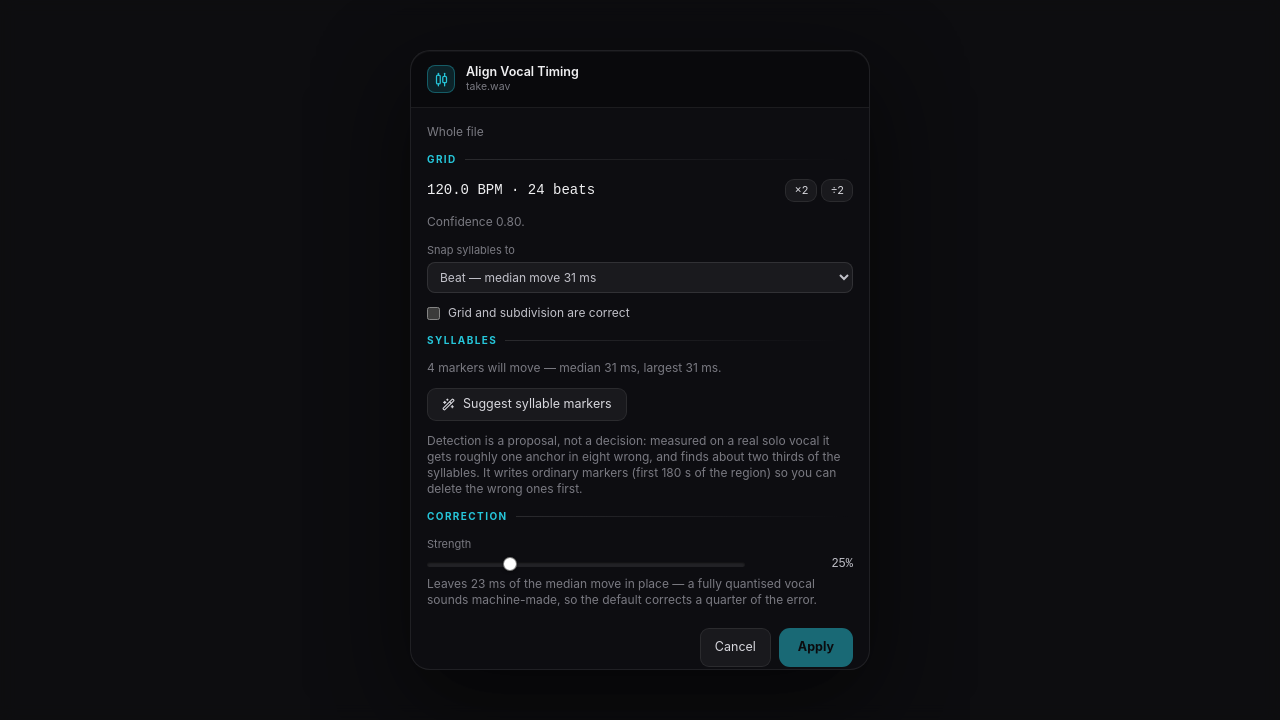
Scenario: AlignTimingDialog — RULING 1, confirm before warp › un-confirms when the subdivision changes, so the tick always refers to what is on screen
Click the checkbox with test id "align-grid-confirmed" at point(434, 313), box [427,307,440,320]
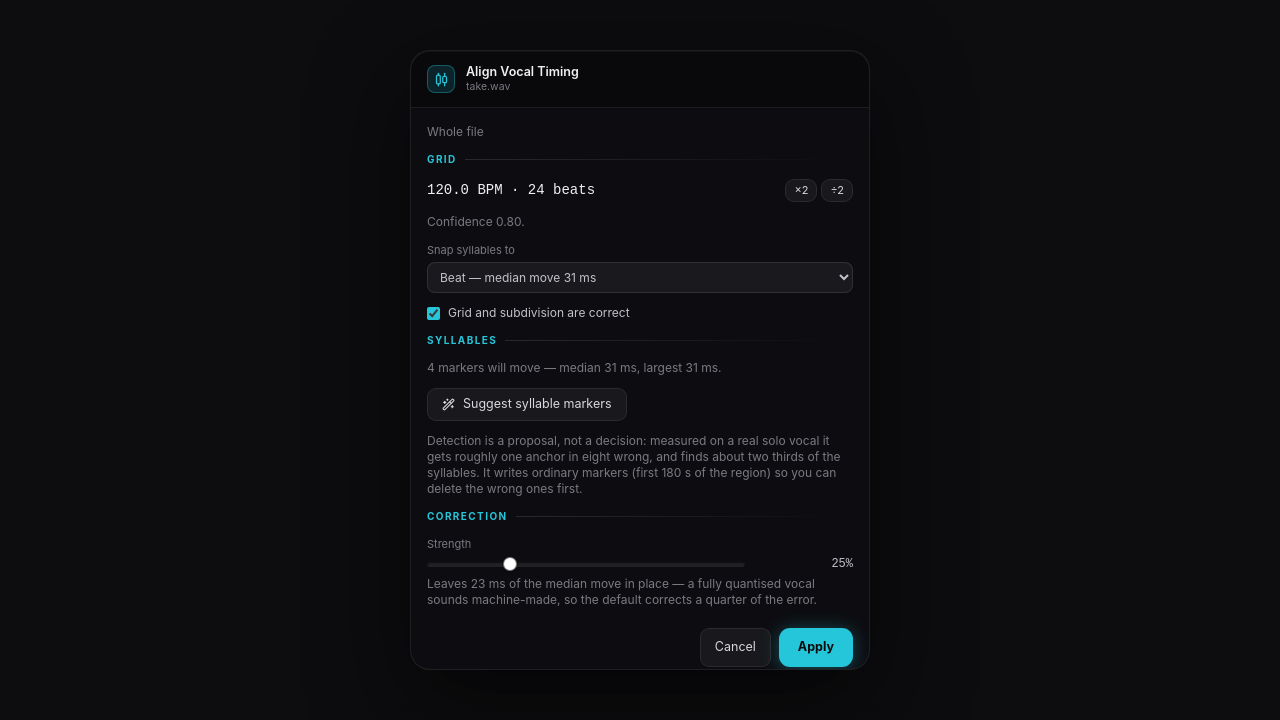
Expected: the button with test id "align-apply" is enabled, [779,628,853,667]
Select "¼ beat — median move 31 ms" in the dropdown with test id "align-division" at point(640, 278), box [427,262,853,293]
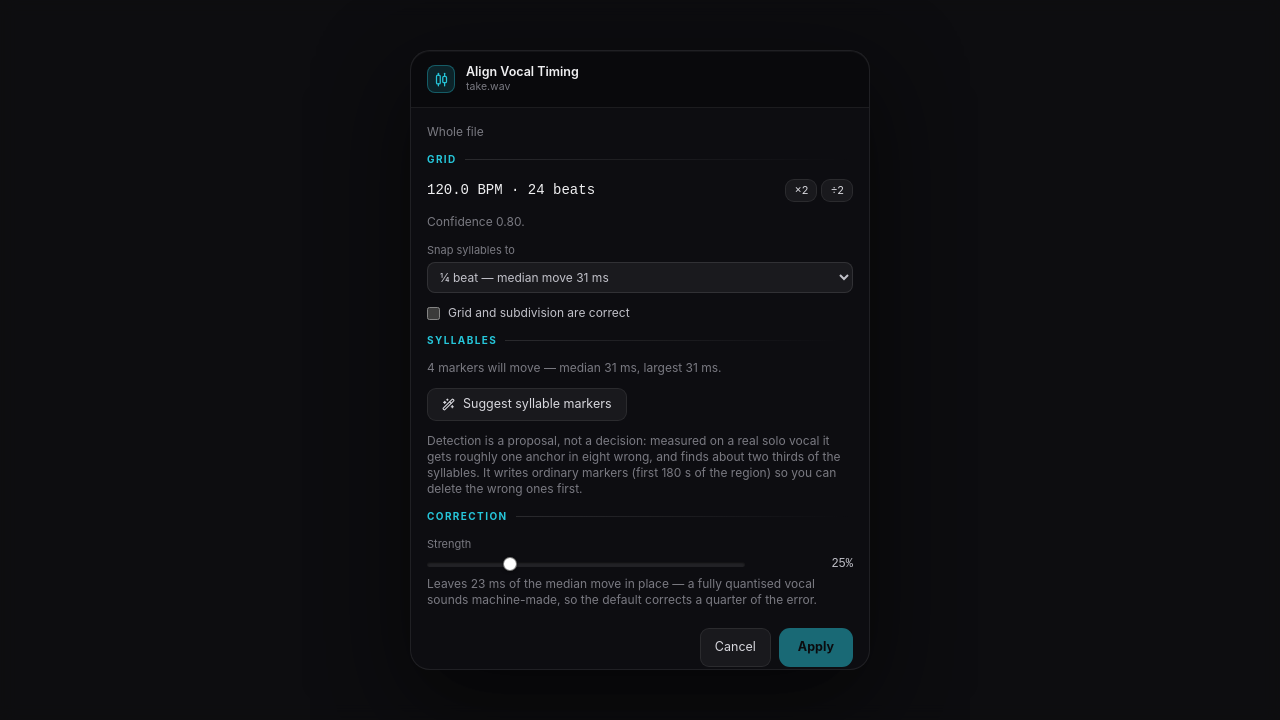
Expected: the checkbox with test id "align-grid-confirmed" is not checked, [427,307,440,320]
Expected: the button with test id "align-apply" is disabled, [779,628,853,667]
